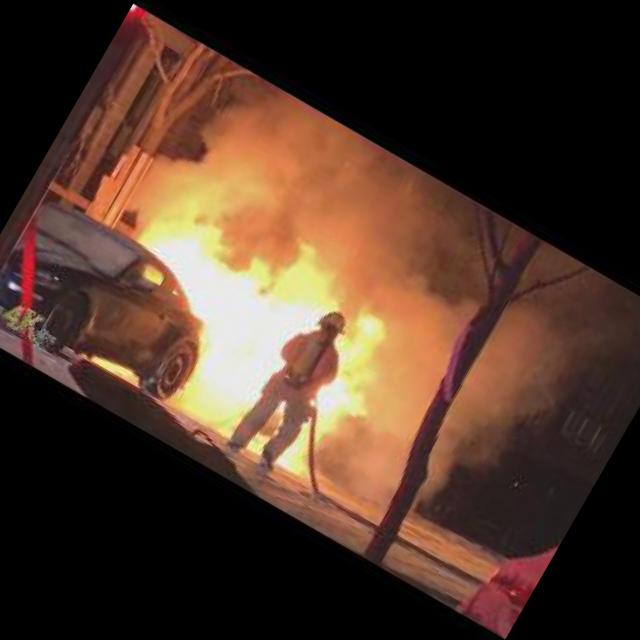fire: (79, 173, 353, 452), (266, 301, 404, 486)
smoke: (312, 199, 638, 572), (141, 49, 470, 321)
